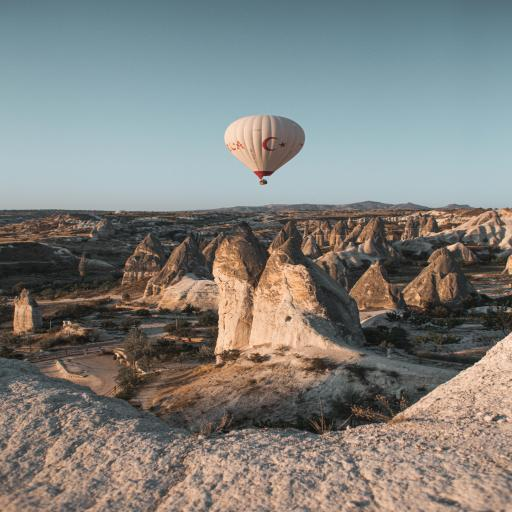hot air ballon: (224, 113, 309, 188)
